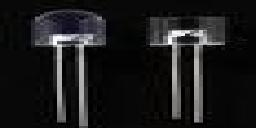LED: (25, 9, 108, 128), (145, 15, 228, 126)
